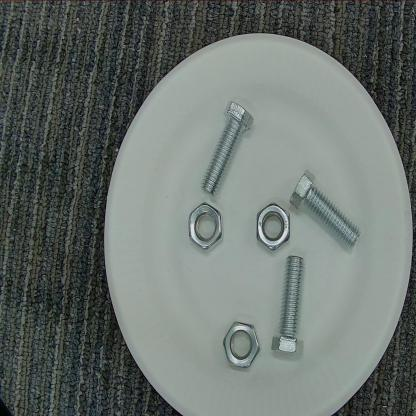FOD: (290, 165, 362, 255), (198, 98, 254, 201), (268, 250, 310, 366), (221, 317, 263, 372), (186, 200, 224, 258), (254, 200, 291, 254)
